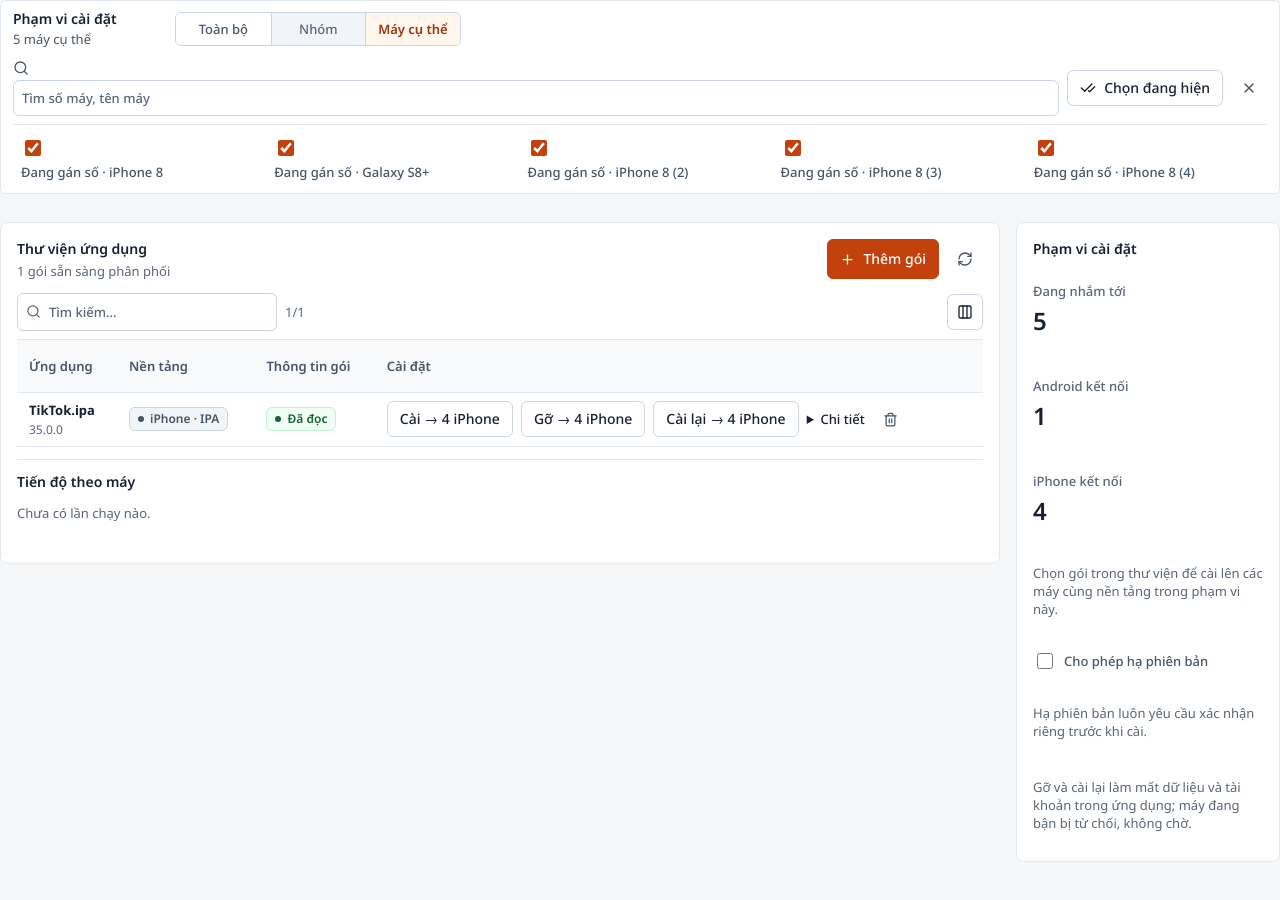
Test: AppsPage uninstall and reinstall › uninstalls the library app by id on same-platform phones and renders every typed outcome
The width and height of the screenshot is (1280, 900).
Click the button "Gỡ → 4 iPhone": [583, 419] box [521,401,645,437]
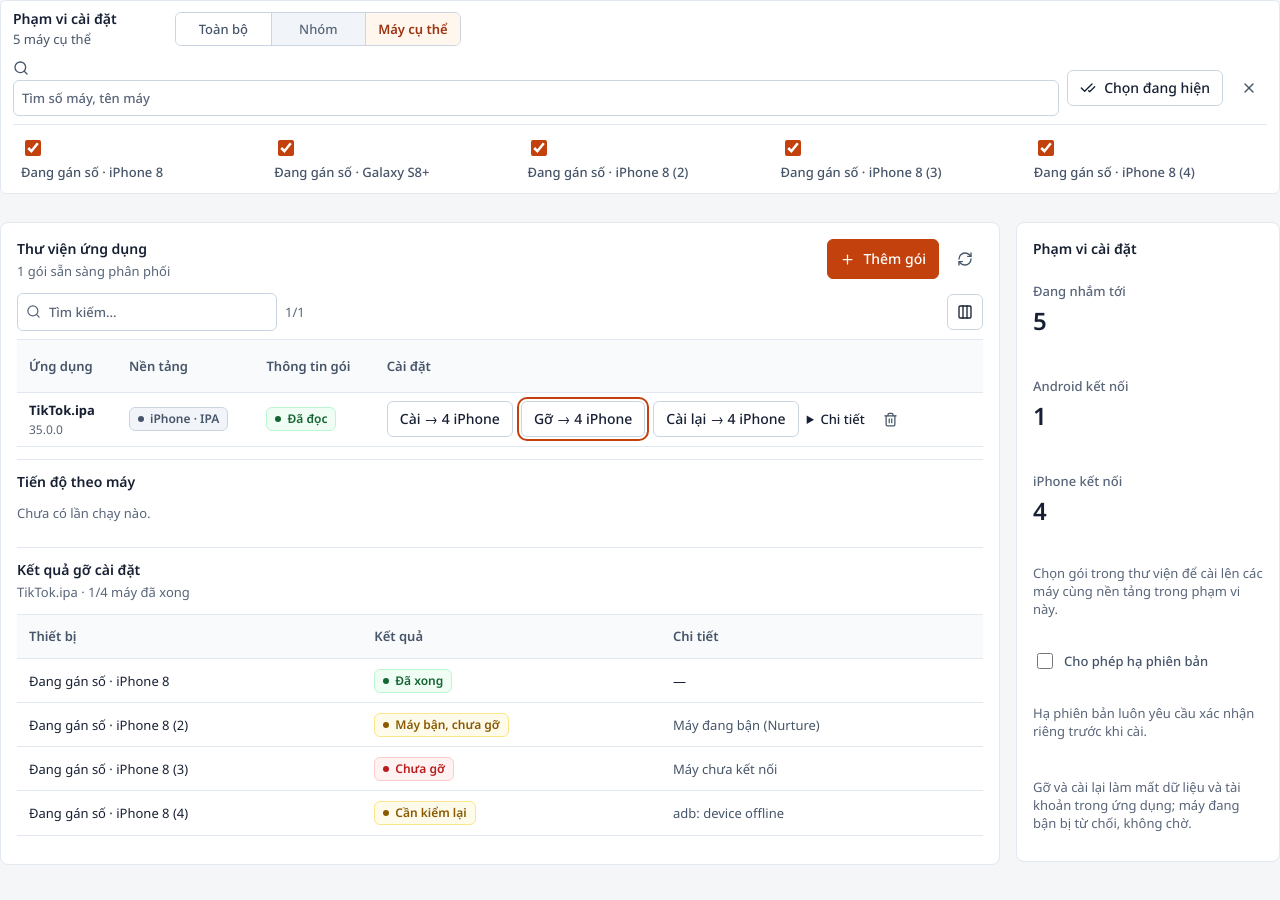
expect the heading "Kết quả gỡ cài đặt" is shown: met, box [17,560,140,579]
expect the text "Đã xong" is shown: met, box [374,669,452,693]
expect the text "Máy bận, chưa gỡ" is shown: met, box [374,713,509,737]
